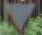Give way: (0, 0, 35, 34)
